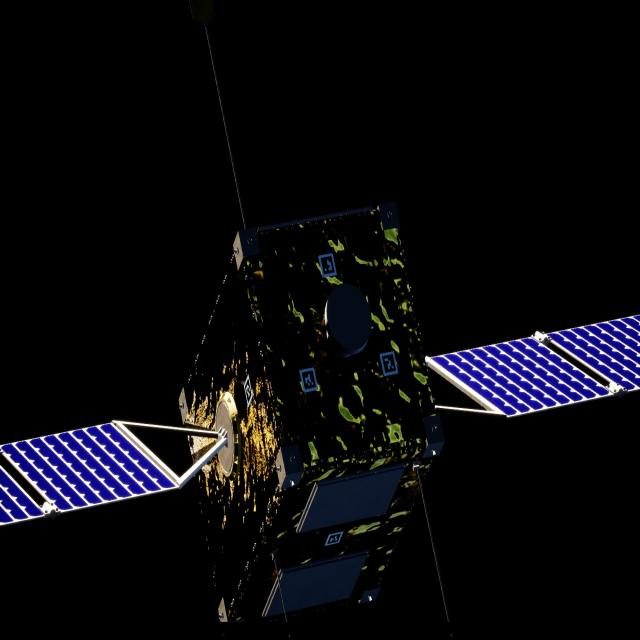satellite: (0, 202, 640, 628)
